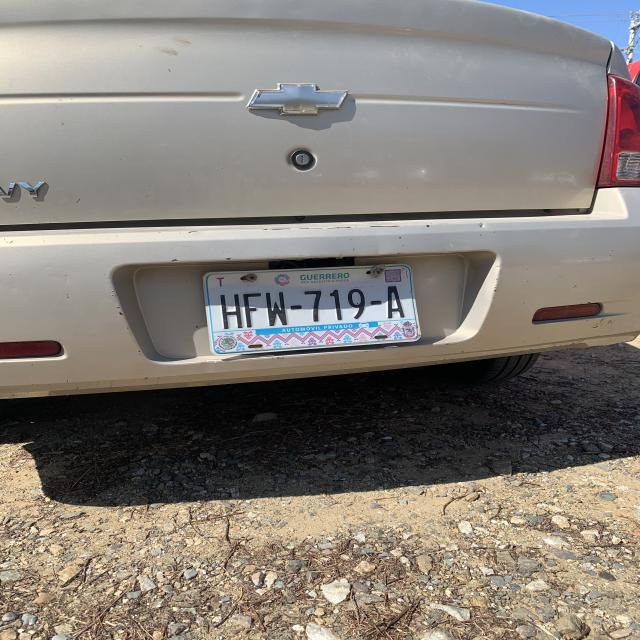placa: (202, 282, 423, 326)
